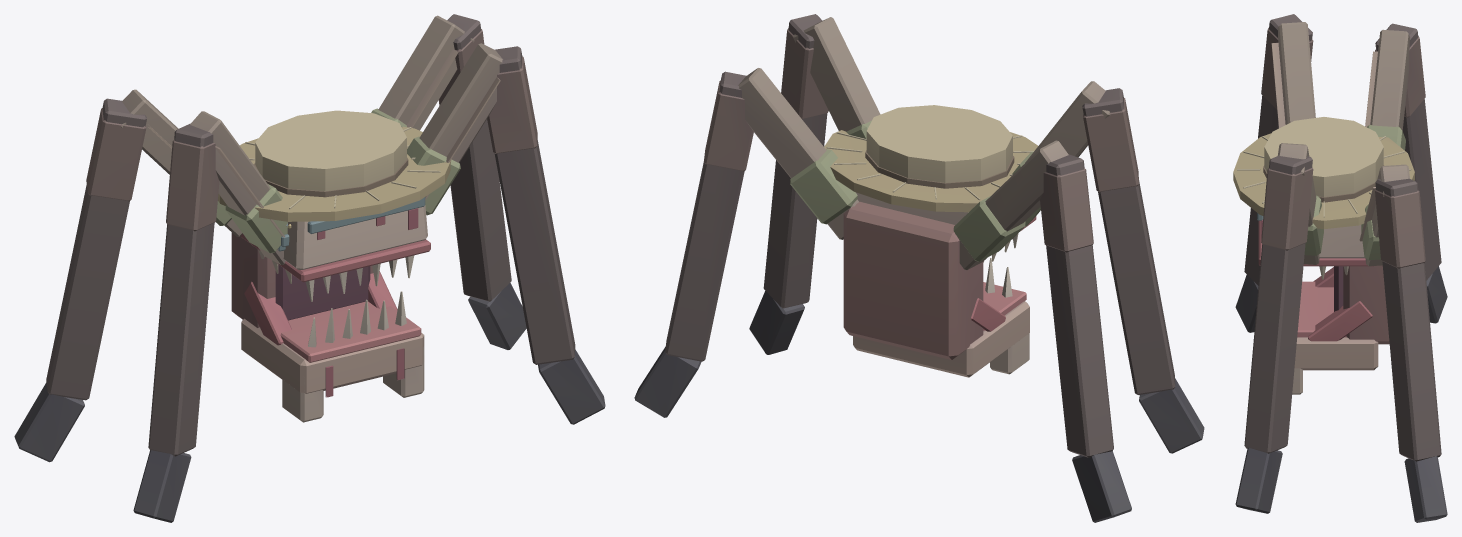
The model's file is PrimitiveSummonerFarmer.glb.
3 views of the same model, side by side, from view 1: azimuth 30°, elevation 25°; view 2: azimuth 150°, elevation 25°; view 3: azimuth 270°, elevation 25° (orthographic). The views are drawn at different scales.
Visible parts, largest first — view 1: Body, ArmR, ArmL, LegR, LegL, Head; view 2: Body, LegR, LegL, ArmR, ArmL, Head; view 3: ArmL, LegL, Body, LegR, ArmR, Head.
Boxes of the visible parts, x1,y1,x2,y2 form: Body: [218, 110, 451, 327]; ArmR: [133, 111, 287, 522]; ArmL: [407, 43, 605, 424]; LegR: [14, 89, 242, 462]; LegL: [371, 14, 526, 349]; Head: [241, 271, 424, 422]; Body: [824, 105, 1037, 359]; LegR: [953, 140, 1131, 522]; LegL: [634, 68, 858, 417]; ArmR: [1012, 81, 1204, 453]; ArmL: [749, 14, 880, 354]; Head: [853, 258, 1029, 377]; ArmL: [1235, 143, 1323, 513]; LegL: [1359, 164, 1447, 522]; Body: [1233, 117, 1414, 344]; LegR: [1365, 23, 1447, 323]; ArmR: [1235, 14, 1315, 332]; Head: [1292, 267, 1378, 394].
Bounding box in the file's own units: 10.01 × 6.99 × 4.02.
